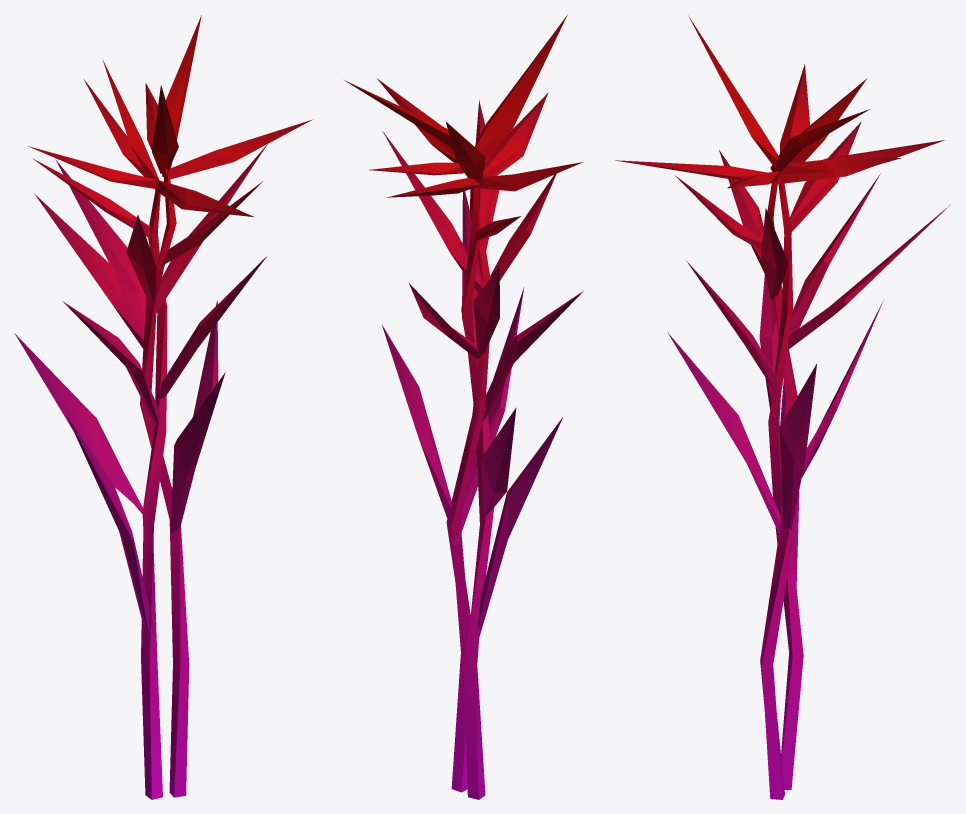
Rendered from Plant_2.fbx.
3 views of the same model, side by side, from view 1: azimuth 30°, elevation 25°; view 2: azimuth 150°, elevation 25°; view 3: azimuth 270°, elevation 25° (orthographic).
Visible parts, largest first — view 1: SM_Plant_05; view 2: SM_Plant_05; view 3: SM_Plant_05.
Boxes of the visible parts, box(x1,y1,x2,y2) form: SM_Plant_05: box(14, 15, 312, 799); SM_Plant_05: box(344, 14, 583, 799); SM_Plant_05: box(615, 15, 950, 799).
Bounding box in the file's own units: 118 × 345 × 140.
